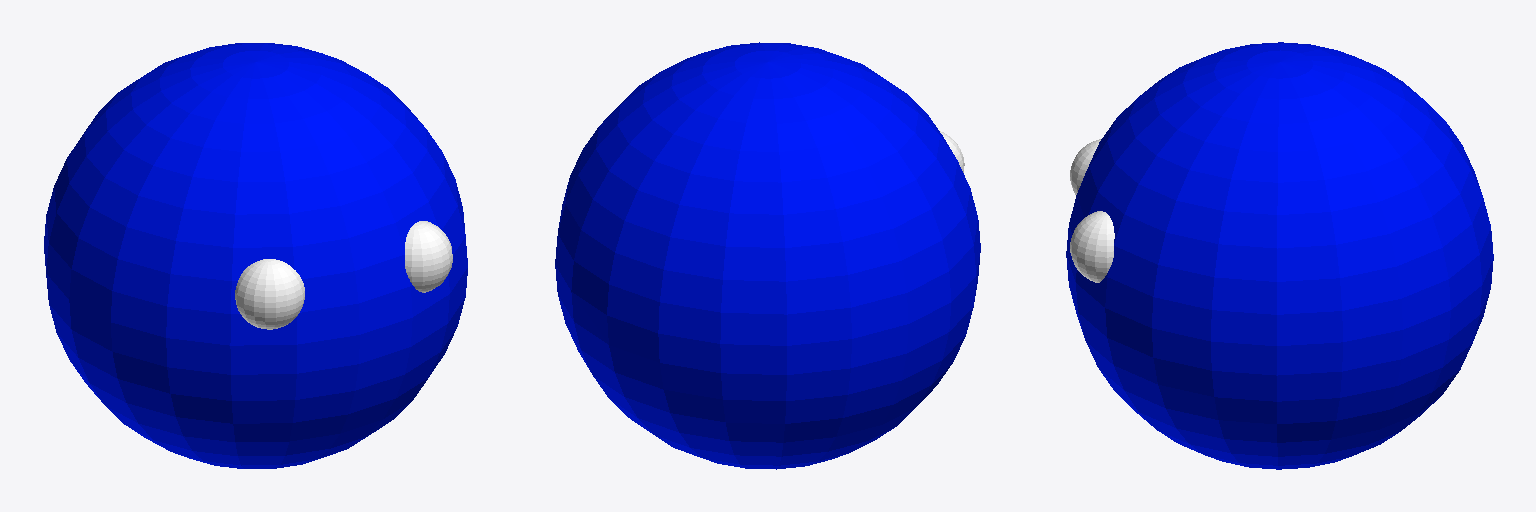
File: enemy_head_1.obj
The picture shows the model from 3 angles: view 1: azimuth 30°, elevation 25°; view 2: azimuth 150°, elevation 25°; view 3: azimuth 270°, elevation 25°; orthographic projection.
Parts seen in each view (by area): view 1: pSphere6, pSphere6 eye1, pSphere6 eye2; view 2: pSphere6; view 3: pSphere6, pSphere6 eye2, pSphere6 eye1.
Part boxes in pixels (x1,y1,x2,y2): pSphere6: (44, 43, 467, 468); pSphere6 eye1: (235, 259, 304, 329); pSphere6 eye2: (405, 221, 452, 292); pSphere6: (555, 42, 980, 469); pSphere6: (1066, 42, 1493, 469); pSphere6 eye2: (1070, 211, 1114, 282); pSphere6 eye1: (1070, 139, 1100, 194).
Size of the model in its own units: 0.3777 by 0.3777 by 0.3777.